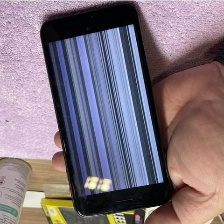phone: (37, 0, 179, 222)
